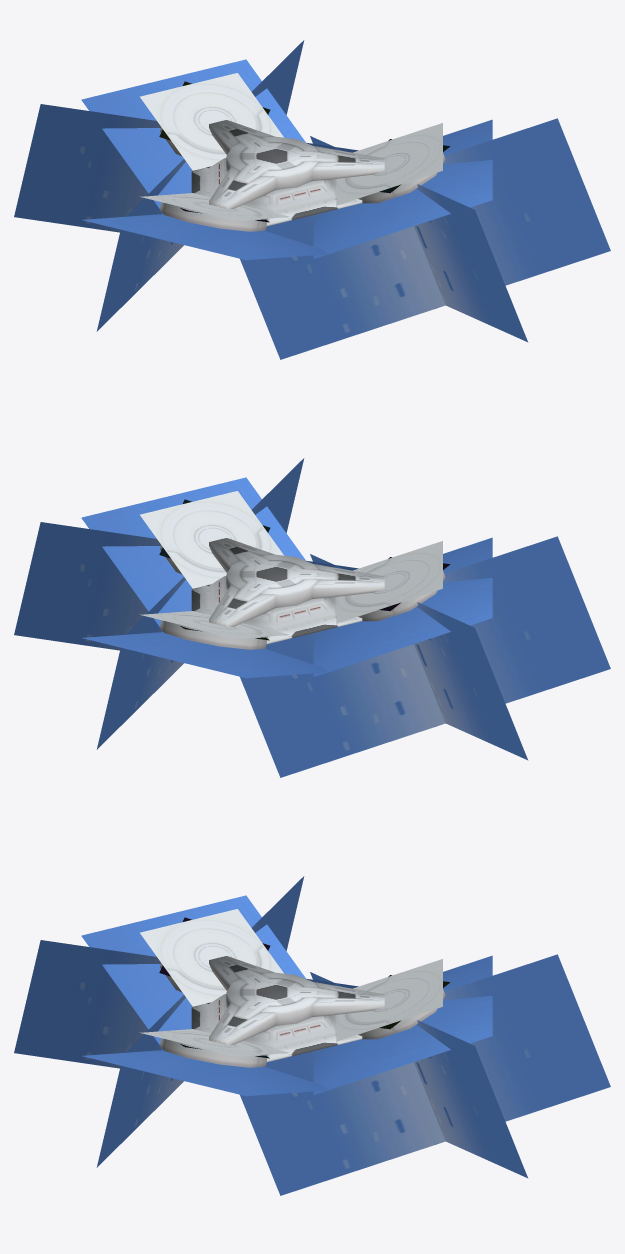
The model's file is delivery-drone.glb.
The picture shows the model from 3 angles, top to bottom: view 1: azimuth 30°, elevation 25°; view 2: azimuth 150°, elevation 25°; view 3: azimuth 270°, elevation 25°; orthographic projection.
Parts seen in each view (by area): view 1: delivery-drone-eff, delivery-drone-lod0-a; view 2: delivery-drone-eff, delivery-drone-lod0-a; view 3: delivery-drone-eff, delivery-drone-lod0-a.
Part boxes in pixels (x1,y1,x2,y2): delivery-drone-eff: [14, 40, 610, 359]; delivery-drone-lod0-a: [140, 73, 445, 231]; delivery-drone-eff: [14, 458, 610, 777]; delivery-drone-lod0-a: [140, 491, 445, 649]; delivery-drone-eff: [14, 876, 610, 1195]; delivery-drone-lod0-a: [140, 909, 445, 1067].
Size of the model in its own units: 2.6 by 1.17 by 2.62.
2 materials, 2 textured.
